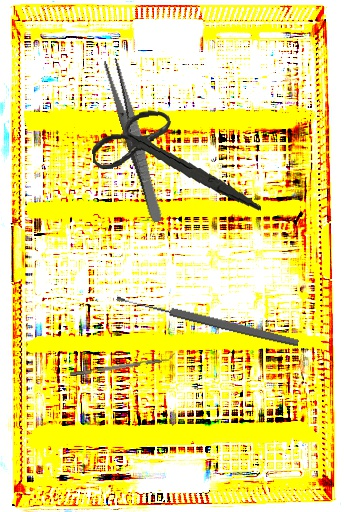Chopper: (68, 352, 177, 377)
Dressing Forceps: (101, 57, 168, 224)
Iris Scissors: (88, 99, 262, 229)
Surgical Spoon: (115, 292, 300, 349)
